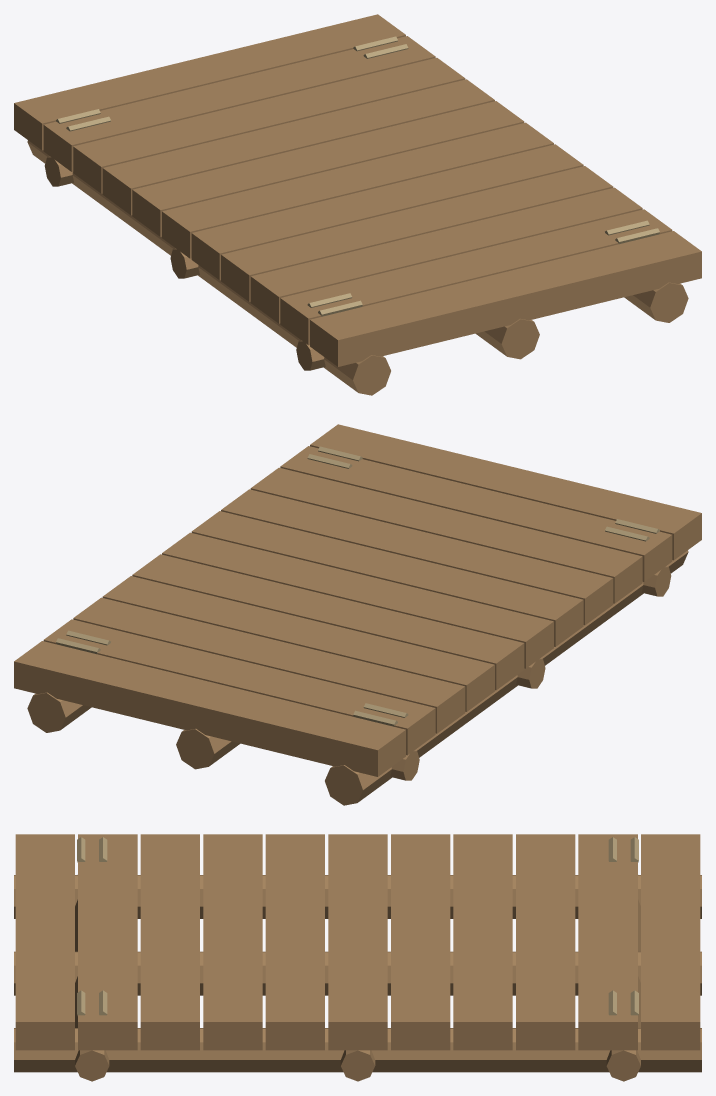
File: campaign_raft_frame.glb
3 renders of one model, top to bottom at view 1: azimuth 30°, elevation 25°; view 2: azimuth 150°, elevation 25°; view 3: azimuth 270°, elevation 25°, orthographic. The views are drawn at different scales.
Parts seen in each view (by area): view 1: campaign_raft_frame; view 2: campaign_raft_frame; view 3: campaign_raft_frame.
Part boxes in pixels (<box>): campaign_raft_frame: <box>14,14,701,395</box>; campaign_raft_frame: <box>14,424,701,805</box>; campaign_raft_frame: <box>14,834,701,1081</box>.
Size of the model in its own units: 1.42 by 0.249 by 2.2.
